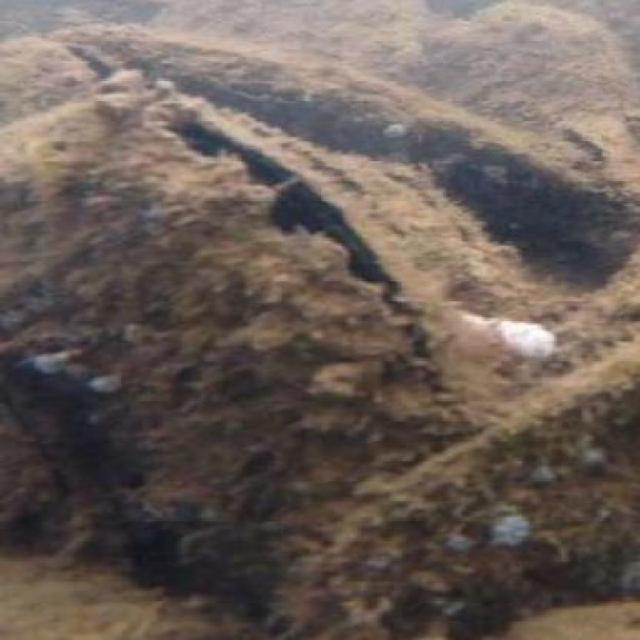Oyster-Closed: (0, 92, 544, 615), (0, 35, 154, 125)
Oyster-Indeterminate: (60, 23, 640, 261), (262, 349, 640, 640), (152, 0, 447, 97), (436, 6, 631, 136)
